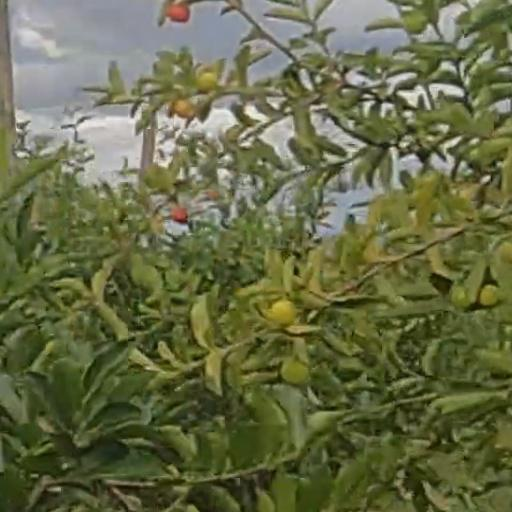acerola_verde: (282, 363, 308, 384), (273, 300, 292, 326)
acerola_vermelha: (174, 101, 198, 120), (169, 4, 189, 23), (173, 209, 190, 224)
